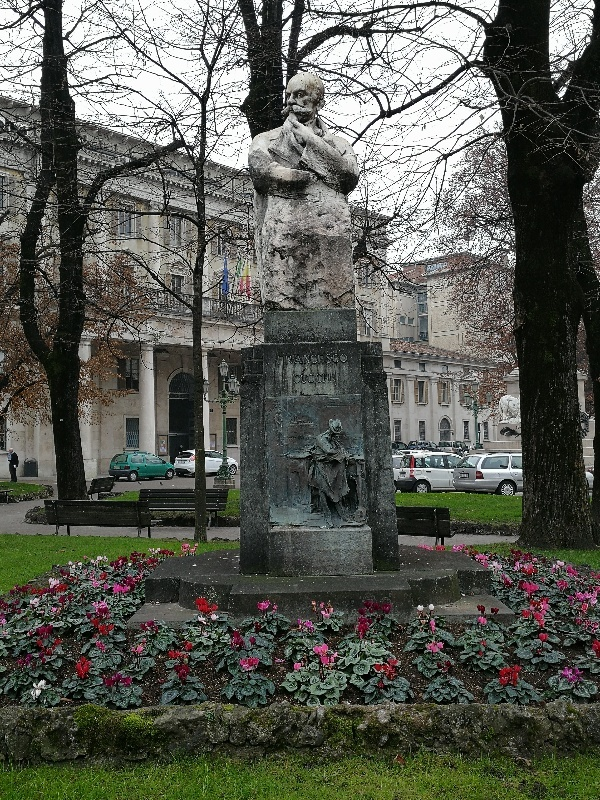text: (289, 354, 304, 365), (305, 354, 320, 365), (321, 354, 336, 365), (305, 373, 320, 384), (321, 373, 334, 384), (337, 354, 348, 365), (293, 373, 304, 384), (278, 354, 288, 365)
